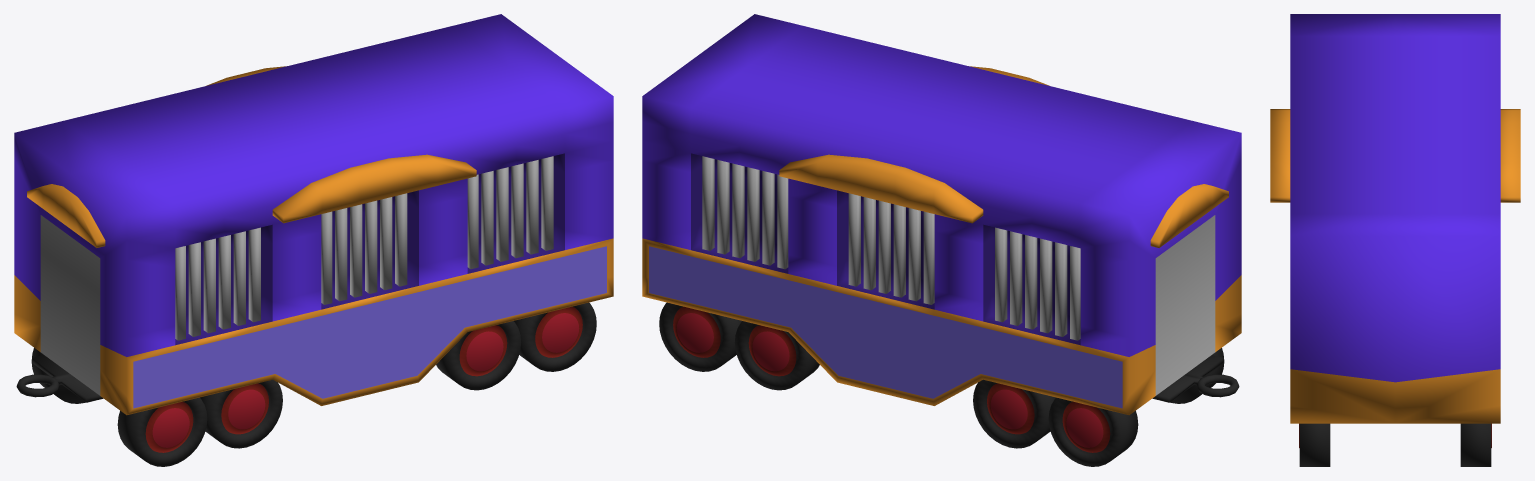
Rendered from caçamba.fbx.
The picture shows the model from 3 angles, left to right: view 1: azimuth 30°, elevation 25°; view 2: azimuth 150°, elevation 25°; view 3: azimuth 270°, elevation 25°; orthographic projection. The views are drawn at different scales.
Parts seen in each view (by area): view 1: Caçamba; view 2: Caçamba; view 3: Caçamba.
Boxes of the visible parts, bbox=[...] form: Caçamba: bbox=[14, 14, 613, 466]; Caçamba: bbox=[642, 14, 1241, 466]; Caçamba: bbox=[1270, 14, 1520, 466].
Size of the model in its own units: 3580 by 1693 by 1544.
